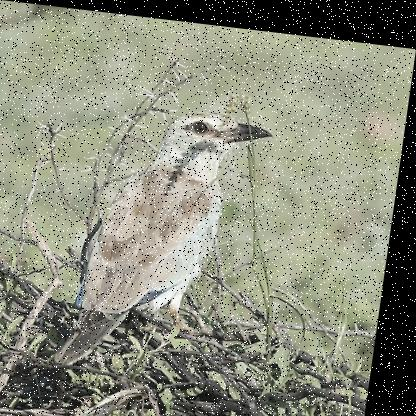Burung: (62, 94, 279, 377)
